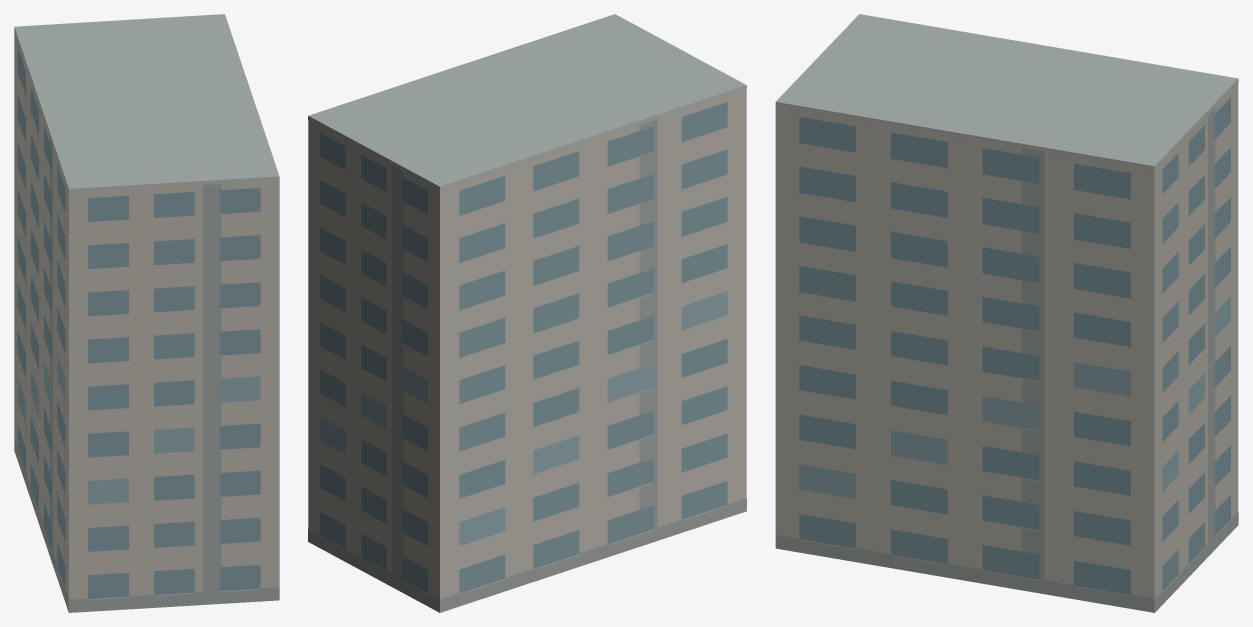
File: residential-2fb58e22-c053-46b4-a1e4-9b99f03a31e3.glb
3 renders of one model, left to right at view 1: azimuth 30°, elevation 25°; view 2: azimuth 150°, elevation 25°; view 3: azimuth 270°, elevation 25°, orthographic. The views are drawn at different scales.
Visible parts, largest first — view 1: residential-2fb58e22-c053-46b4-a1e4-9b99f03a31e3.tmp; view 2: residential-2fb58e22-c053-46b4-a1e4-9b99f03a31e3.tmp; view 3: residential-2fb58e22-c053-46b4-a1e4-9b99f03a31e3.tmp.
Part boxes in pixels (left/top/right/bottom): residential-2fb58e22-c053-46b4-a1e4-9b99f03a31e3.tmp: left=14, top=14, right=279, bottom=612; residential-2fb58e22-c053-46b4-a1e4-9b99f03a31e3.tmp: left=308, top=14, right=746, bottom=612; residential-2fb58e22-c053-46b4-a1e4-9b99f03a31e3.tmp: left=775, top=14, right=1238, bottom=612.
Bounding box in the file's own units: 18.28 × 25 × 23.49.
